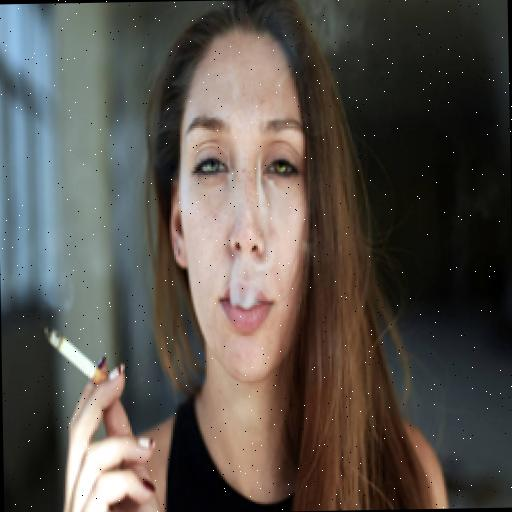asap rokok: (180, 159, 297, 338)
pegang rokok: (12, 260, 136, 440)
